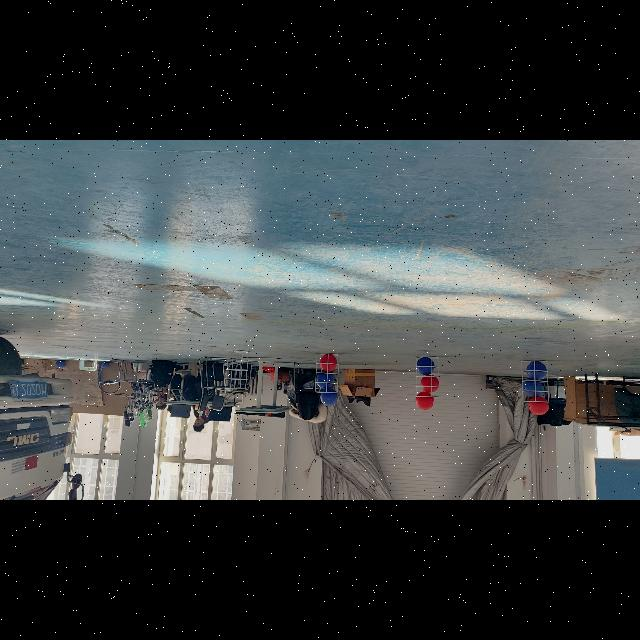B: (526, 362, 548, 380), (417, 357, 437, 375), (523, 378, 543, 396), (320, 388, 338, 406), (316, 371, 334, 389)
R: (528, 395, 550, 415), (416, 392, 436, 410), (320, 355, 338, 371), (422, 376, 438, 392)
S: (520, 356, 554, 404), (412, 352, 443, 402), (310, 350, 342, 396), (223, 348, 250, 392)
